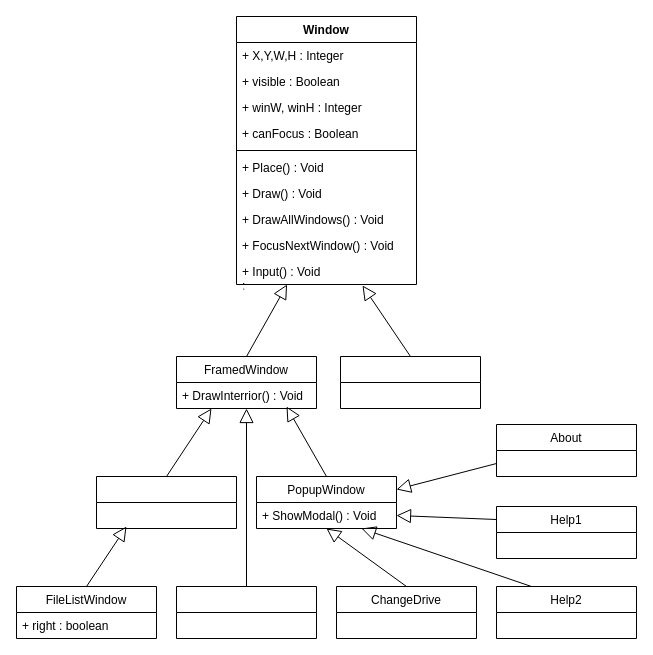
Image size: 653x655. Some labels were removed from this diagram. The centre of each missing label's shape, as x and y in pixels:
CommandLine: pixel 410 382
DescriptionWindow: pixel 246 612
ListWindow: pixel 166 502
